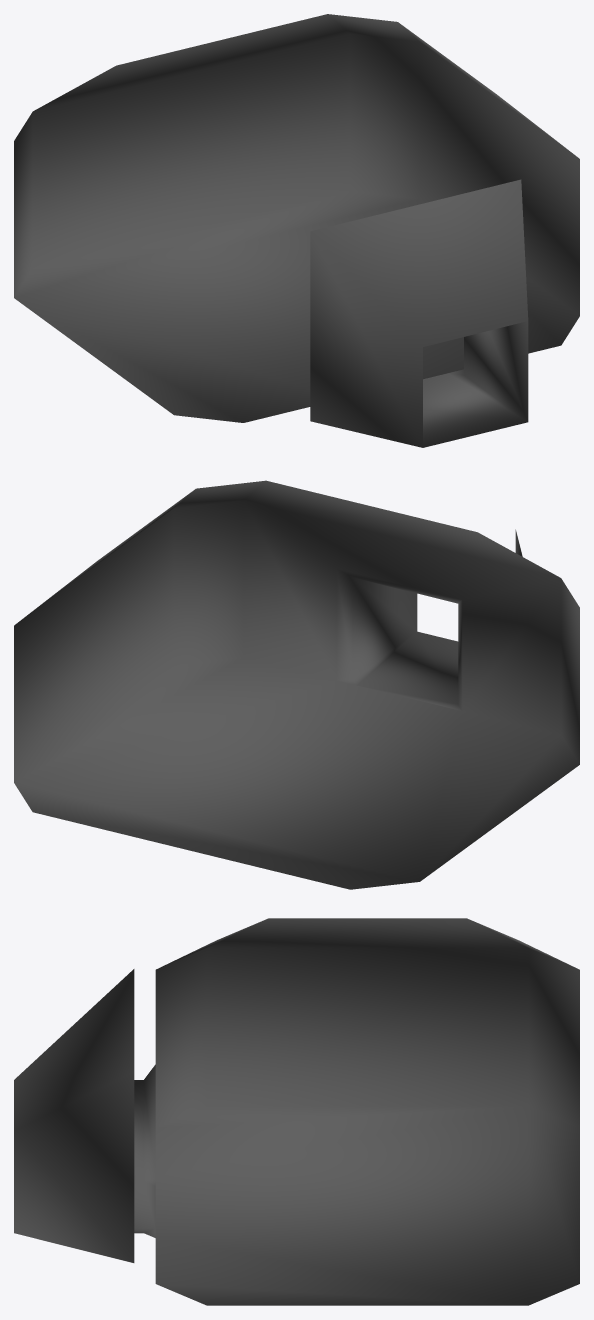
File: NivekHome.glb
The picture shows the model from 3 angles, top to bottom: view 1: azimuth 30°, elevation 25°; view 2: azimuth 150°, elevation 25°; view 3: azimuth 270°, elevation 25°; orthographic projection.
Visible parts, largest first — view 1: NivekHome; view 2: NivekHome; view 3: NivekHome.
Boxes of the visible parts, x1,y1,x2,y2 form: NivekHome: (14,14,579,447); NivekHome: (14,480,579,889); NivekHome: (14,918,579,1305).
Bounding box in the file's own units: 10 × 5.1 × 12.
Materials: 1 (1 with a texture image).
